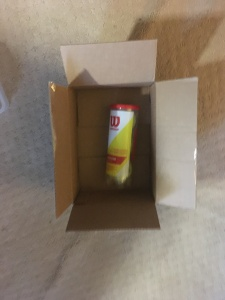innerbox: (69, 84, 155, 204)
outerbox: (51, 43, 197, 233)
product: (107, 104, 137, 189)
